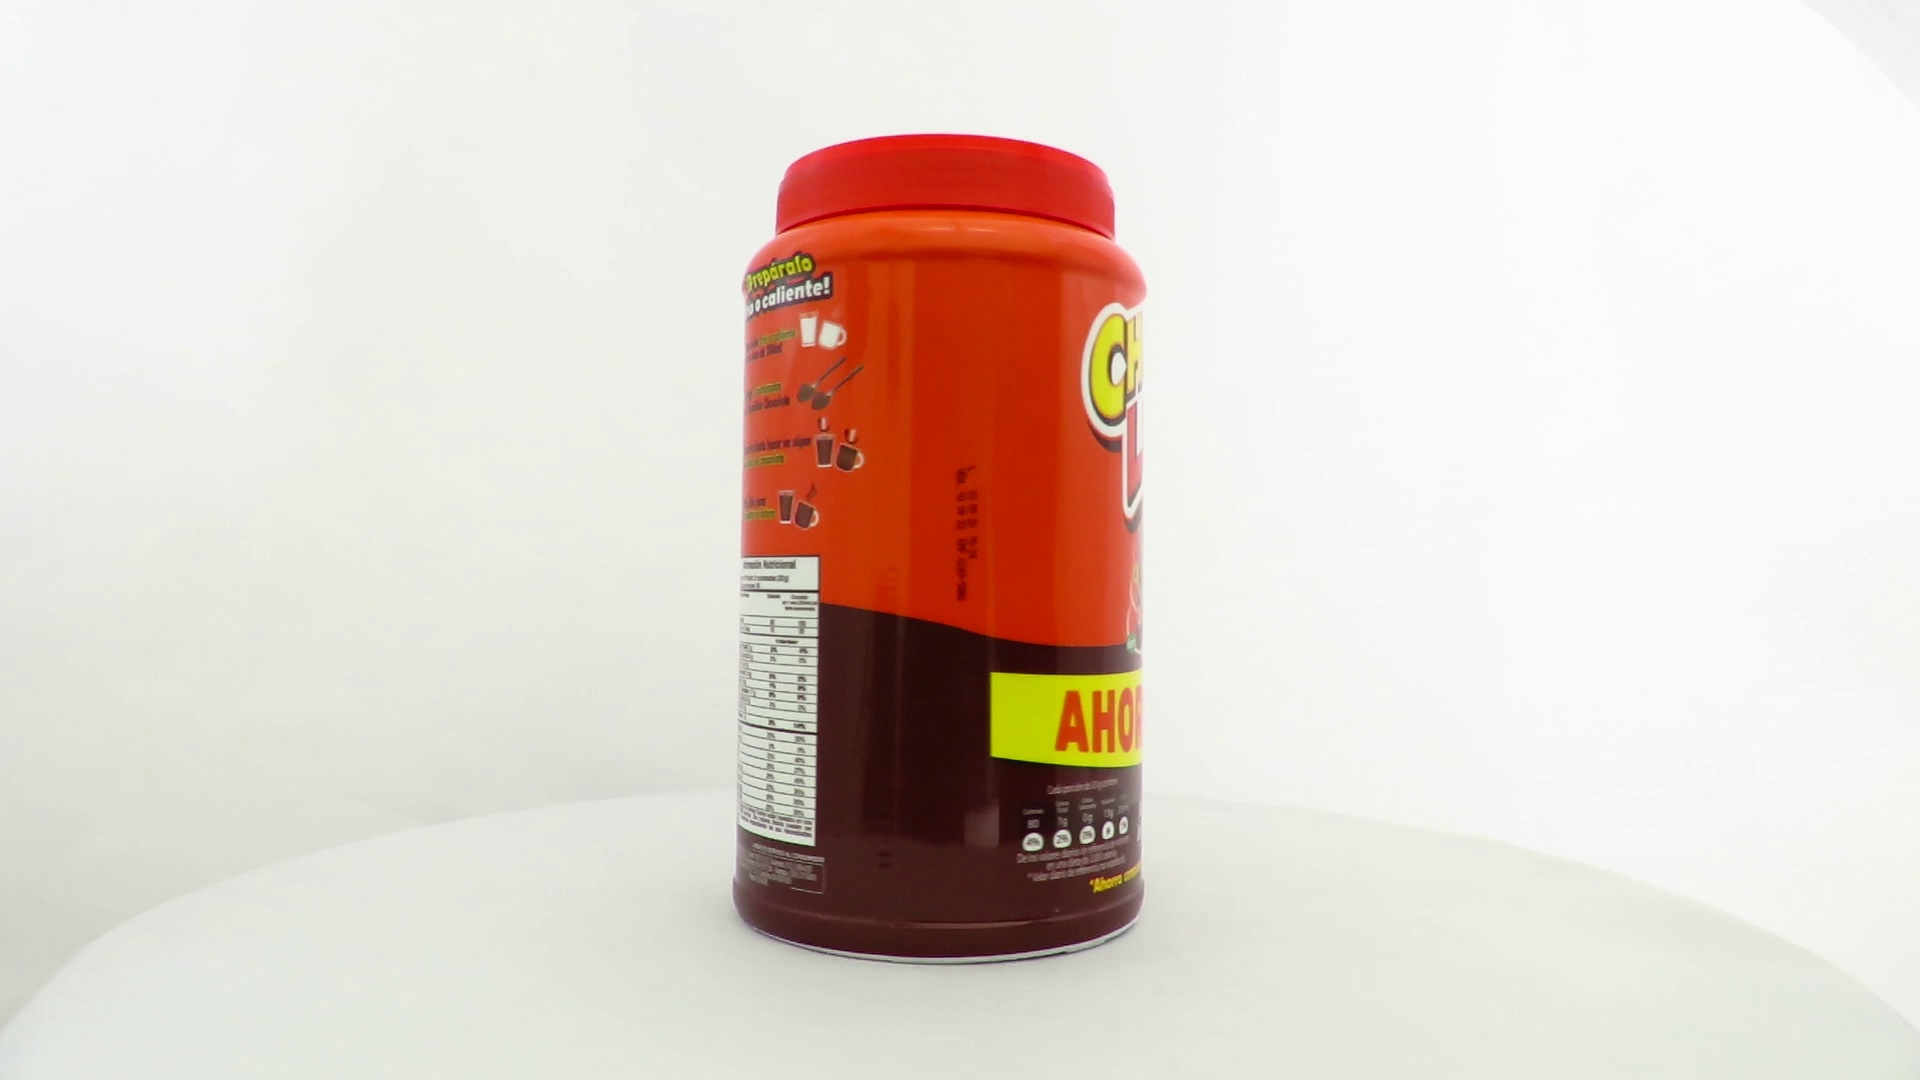COL0170103TRR00100: (727, 129, 1153, 973)
